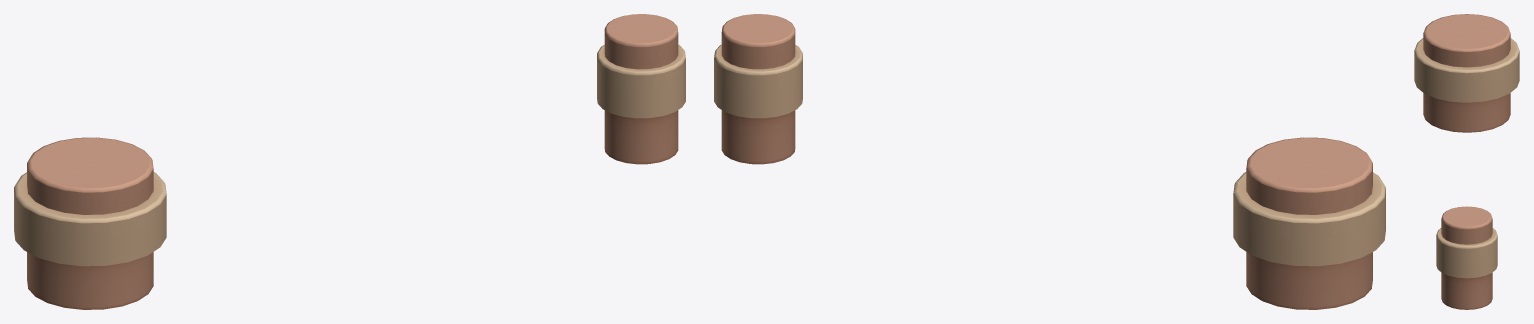
Rendered from Props.fbx.
The picture shows the model from 3 angles, left to right: view 1: azimuth 30°, elevation 25°; view 2: azimuth 150°, elevation 25°; view 3: azimuth 270°, elevation 25°; orthographic projection. The views are drawn at different scales.
Parts seen in each view (by area): view 1: Cylinder-3, Cylinder-2; view 2: Cylinder-3, Cylinder-2; view 3: Cylinder-3, Cylinder-2.
Part boxes in pixels (left/top/right/bottom): Cylinder-3: left=14, top=137, right=166, bottom=309; Cylinder-2: left=597, top=14, right=685, bottom=164; Cylinder-3: left=1233, top=137, right=1385, bottom=309; Cylinder-2: left=714, top=14, right=802, bottom=164; Cylinder-3: left=1414, top=14, right=1519, bottom=132; Cylinder-2: left=1436, top=206, right=1497, bottom=309.
Bounding box in the file's own units: 28.58 × 5 × 5.79.
